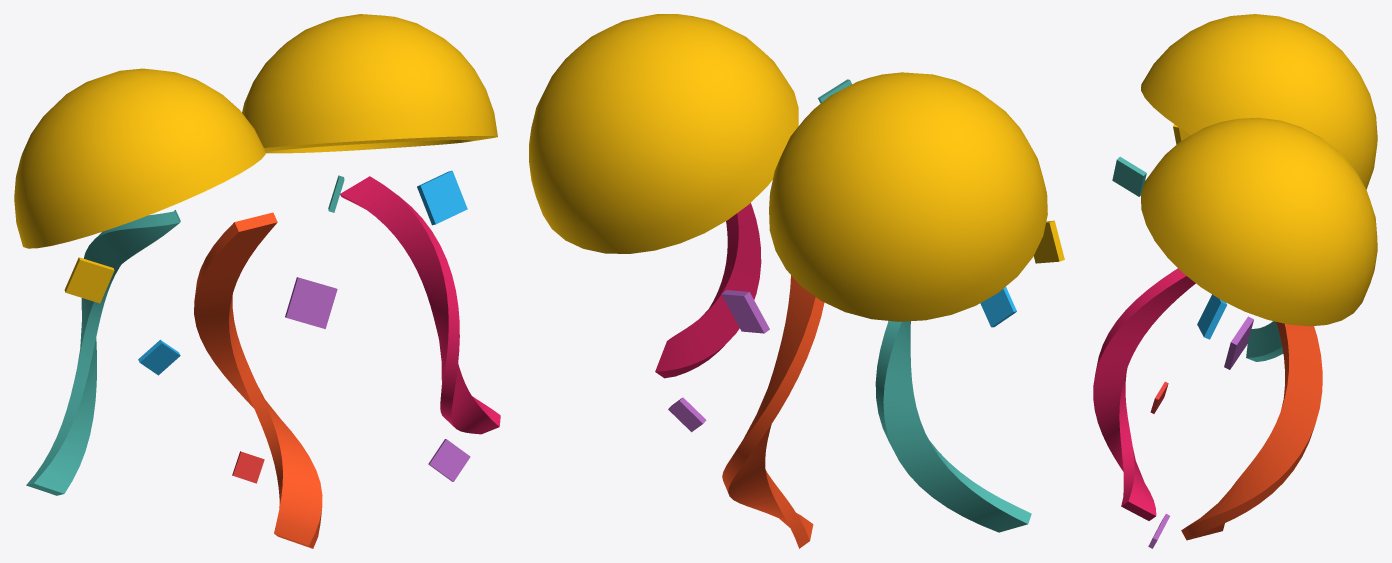
The model's file is confetti_ball.gltf.
3 views of the same model, side by side, from view 1: azimuth 30°, elevation 25°; view 2: azimuth 150°, elevation 25°; view 3: azimuth 270°, elevation 25° (orthographic). The views are drawn at different scales.
Parts seen in each view (by area): view 1: Plane.302; view 2: Plane.302; view 3: Plane.302.
Part boxes in pixels (x1,y1,x2,y2): Plane.302: (14,14,500,548); Plane.302: (529,14,1064,548); Plane.302: (1093,14,1377,548).
Size of the model in its own units: 2.05 by 2.06 by 1.17.
Materials: 1 (1 with a texture image).
